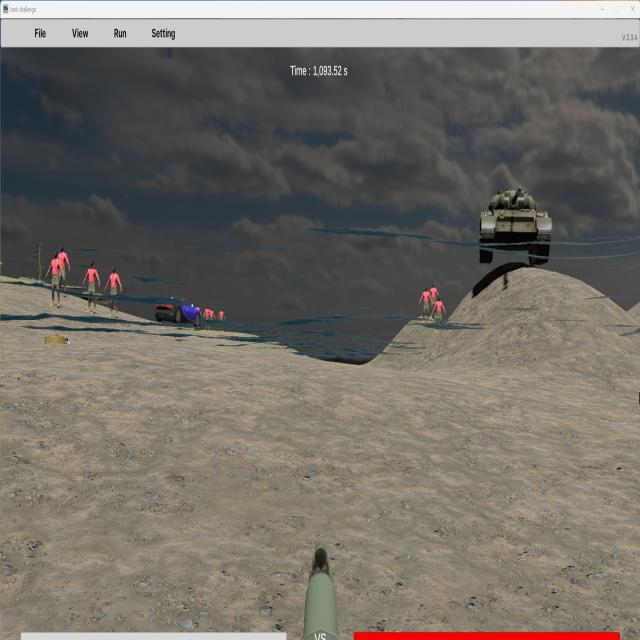Human: (46, 249, 64, 308), (82, 259, 100, 313), (105, 264, 122, 318), (54, 245, 70, 297), (433, 294, 447, 335), (419, 286, 433, 325), (428, 281, 440, 318)
Tank: (479, 186, 552, 266)
car: (155, 296, 203, 327)
